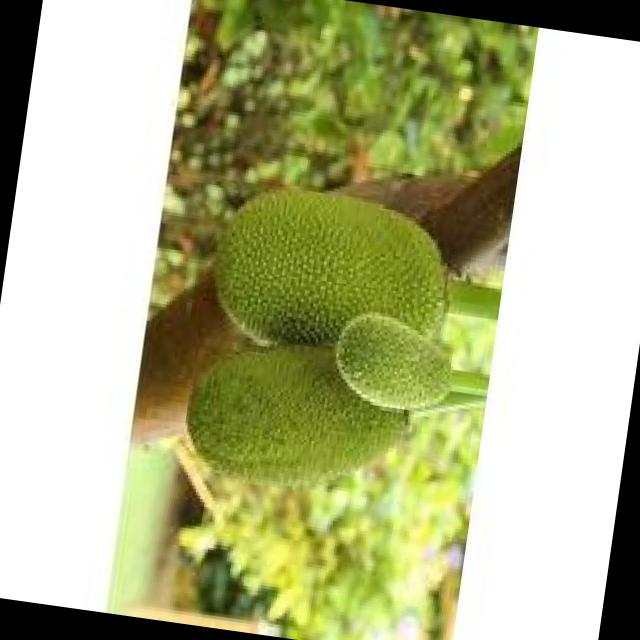Fruit: (194, 162, 476, 372), (171, 324, 433, 516)
